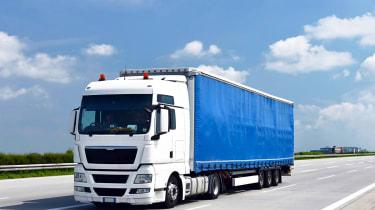truck: (68, 67, 295, 210)
